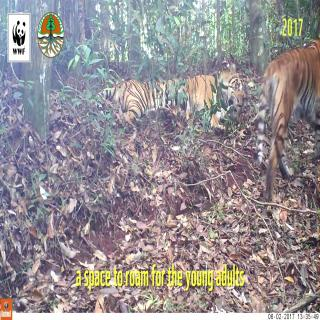Tiger: (96, 40, 248, 148), (256, 36, 320, 166)
